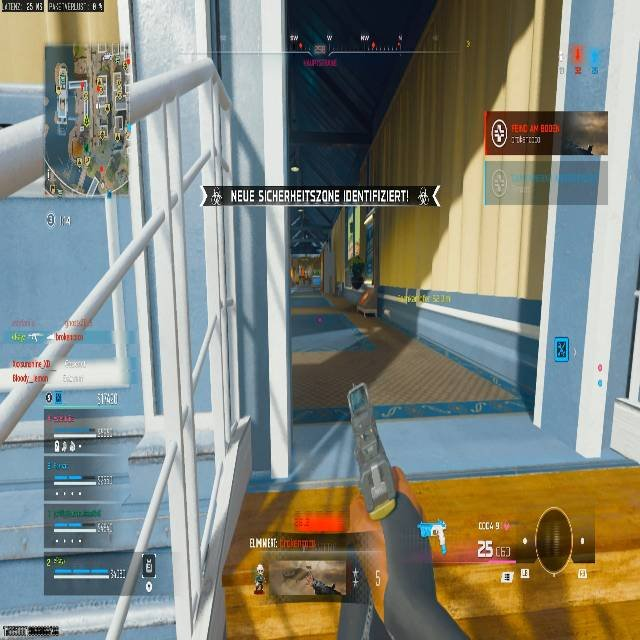head: (354, 255, 362, 262)
player: (349, 255, 364, 289), (253, 564, 265, 594)
